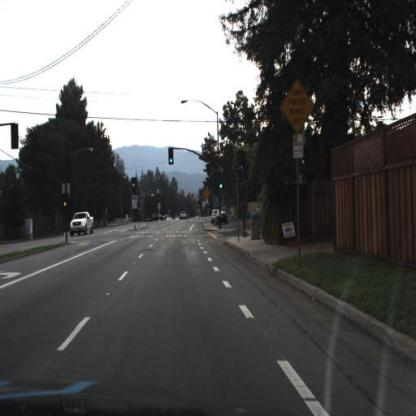car: (69, 212, 93, 234)
trafficLight: (238, 152, 245, 176)
trafficLight-Green: (216, 172, 224, 194), (167, 146, 174, 164)
trafficLight-Yellow: (62, 195, 67, 211)
trafficLight-YellowLeft: (131, 178, 136, 191)
